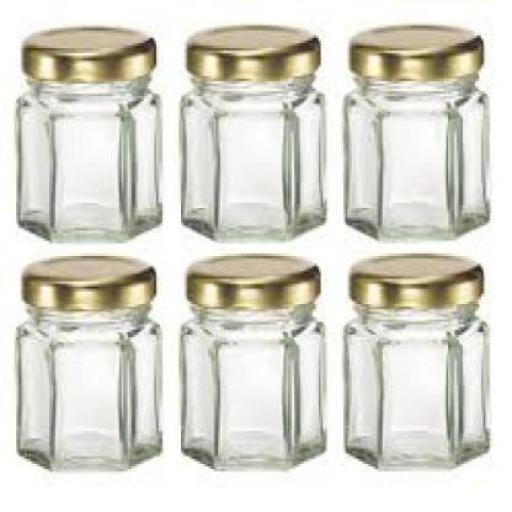glass: (176, 73, 326, 238), (14, 76, 161, 240), (12, 304, 160, 466), (344, 304, 488, 469), (178, 306, 325, 466), (342, 73, 486, 236)
metal: (345, 20, 483, 76), (183, 23, 319, 78), (350, 251, 481, 307), (20, 23, 152, 78), (20, 254, 154, 306), (187, 254, 319, 306)
